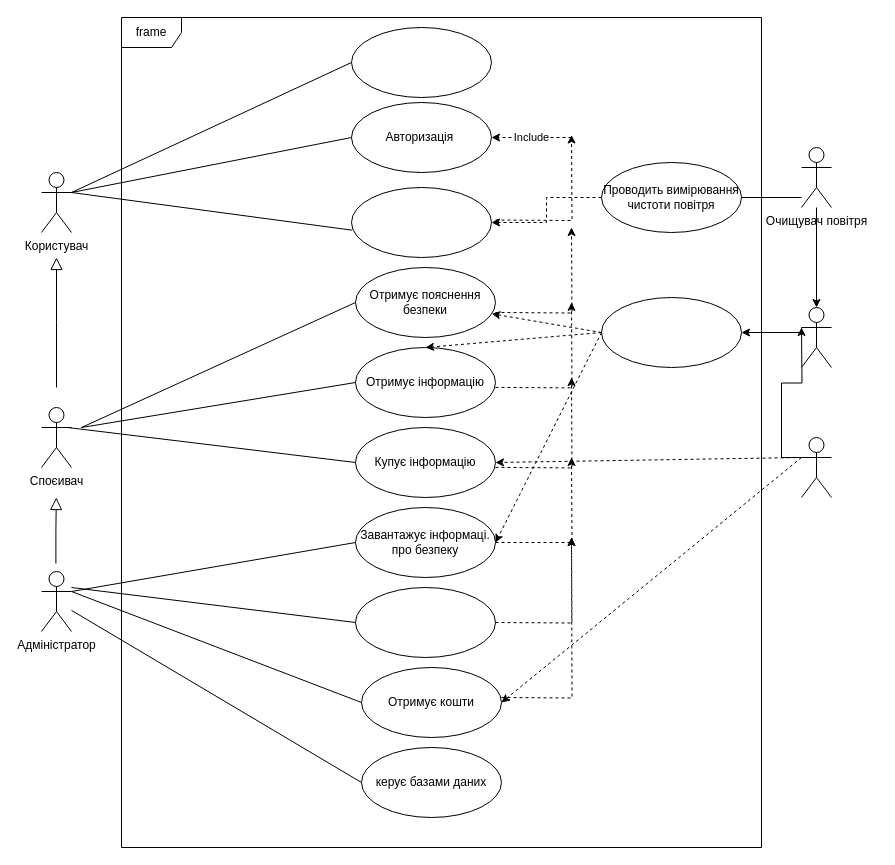
Some shapes in this 895 by 865 pixel diagram are drawn without their labels. Here are the shapes that lost their labels. From the top down, the centre of each, then its label:
At point 421,62: "регістрація кабінету".
At point 421,222: "очищає повітря".
At point 671,332: "Залучення системи отримання інформації".
At point 816,337: "АРІ".
At point 816,467: "Сервіс оплати онлайн".
At point 425,622: "розміщує інформацію".
